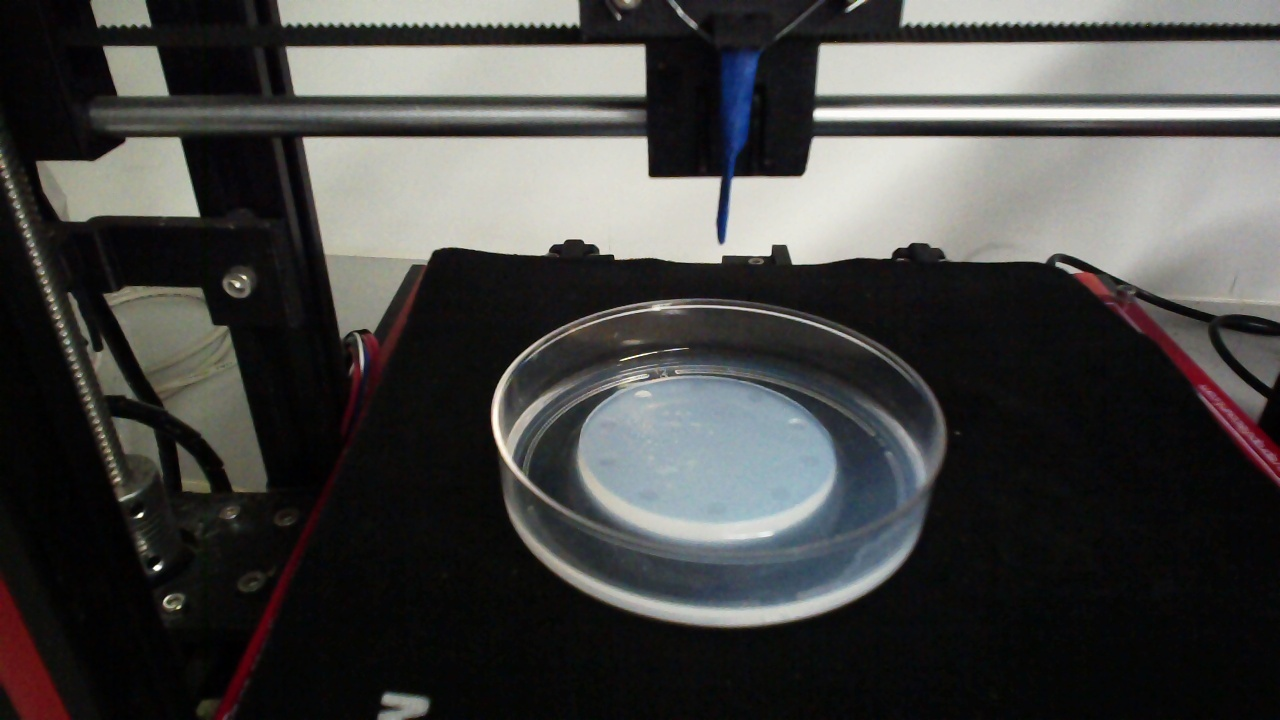groove: (797, 450, 820, 470), (768, 484, 792, 503), (703, 499, 728, 517), (636, 487, 660, 504), (785, 416, 808, 433), (744, 388, 766, 404), (597, 418, 620, 432), (633, 389, 652, 404), (596, 455, 615, 470), (687, 378, 706, 392)
needle: (716, 47, 759, 243)
